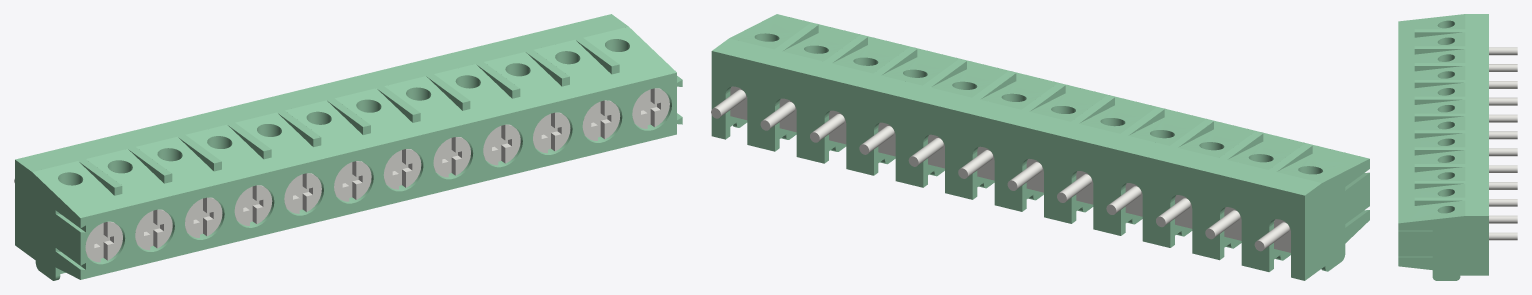
The model's file is TerminalBlock_Phoenix_PT-1,5-12-5.0-H_1x12_P5.00mm_Horizontal.glb.
3 views of the same model, side by side, from view 1: azimuth 30°, elevation 25°; view 2: azimuth 150°, elevation 25°; view 3: azimuth 270°, elevation 25° (orthographic). The views are drawn at different scales.
Visible parts, largest first — view 1: Shape_IndexedFaceSet.240, Shape_IndexedFaceSet.233, Shape_IndexedFaceSet.076, Shape_IndexedFaceSet.064, Shape_IndexedFaceSet.477, Shape_IndexedFaceSet.540, Shape_IndexedFaceSet.470, Shape_IndexedFaceSet.512, Shape_IndexedFaceSet.491, Shape_IndexedFaceSet.533, Shape_IndexedFaceSet.526, Shape_IndexedFaceSet.547 (+12 smaller); view 2: Shape_IndexedFaceSet.012, Shape_IndexedFaceSet.240, Shape_IndexedFaceSet.076, Shape_IndexedFaceSet.064; view 3: Shape_IndexedFaceSet.240, Shape_IndexedFaceSet.076, Shape_IndexedFaceSet.062, Shape_IndexedFaceSet.247, Shape_IndexedFaceSet.403, Shape_IndexedFaceSet.404, Shape_IndexedFaceSet.408, Shape_IndexedFaceSet.409, Shape_IndexedFaceSet.410, Shape_IndexedFaceSet.411, Shape_IndexedFaceSet.292, Shape_IndexedFaceSet.405 (+28 smaller).
Boxes of the visible parts, left/top/right/bottom form: Shape_IndexedFaceSet.240: left=32, top=26, right=676, bottom=217; Shape_IndexedFaceSet.233: left=80, top=72, right=682, bottom=279; Shape_IndexedFaceSet.076: left=15, top=14, right=628, bottom=187; Shape_IndexedFaceSet.064: left=15, top=160, right=80, bottom=280; Shape_IndexedFaceSet.477: left=256, top=185, right=272, bottom=223; Shape_IndexedFaceSet.540: left=604, top=100, right=620, bottom=138; Shape_IndexedFaceSet.470: left=107, top=222, right=122, bottom=260; Shape_IndexedFaceSet.512: left=455, top=137, right=470, bottom=175; Shape_IndexedFaceSet.491: left=306, top=173, right=321, bottom=211; Shape_IndexedFaceSet.533: left=654, top=88, right=669, bottom=126; Shape_IndexedFaceSet.526: left=356, top=161, right=371, bottom=199; Shape_IndexedFaceSet.547: left=157, top=209, right=172, bottom=248; Shape_IndexedFaceSet.012: left=711, top=51, right=1304, bottom=280; Shape_IndexedFaceSet.240: left=729, top=14, right=1369, bottom=182; Shape_IndexedFaceSet.076: left=712, top=23, right=1321, bottom=195; Shape_IndexedFaceSet.064: left=1305, top=159, right=1369, bottom=280; Shape_IndexedFaceSet.240: left=1398, top=14, right=1465, bottom=223; Shape_IndexedFaceSet.076: left=1414, top=14, right=1488, bottom=215; Shape_IndexedFaceSet.062: left=1398, top=216, right=1488, bottom=280; Shape_IndexedFaceSet.247: left=1489, top=47, right=1517, bottom=55; Shape_IndexedFaceSet.403: left=1489, top=232, right=1517, bottom=240; Shape_IndexedFaceSet.404: left=1489, top=215, right=1517, bottom=223; Shape_IndexedFaceSet.408: left=1489, top=148, right=1517, bottom=156; Shape_IndexedFaceSet.409: left=1489, top=131, right=1517, bottom=139; Shape_IndexedFaceSet.410: left=1489, top=114, right=1517, bottom=122; Shape_IndexedFaceSet.411: left=1489, top=97, right=1517, bottom=105; Shape_IndexedFaceSet.292: left=1489, top=64, right=1517, bottom=71; Shape_IndexedFaceSet.405: left=1489, top=199, right=1517, bottom=206.
Size of the model in its own units: 23.85 by 3.54 by 5.91.
